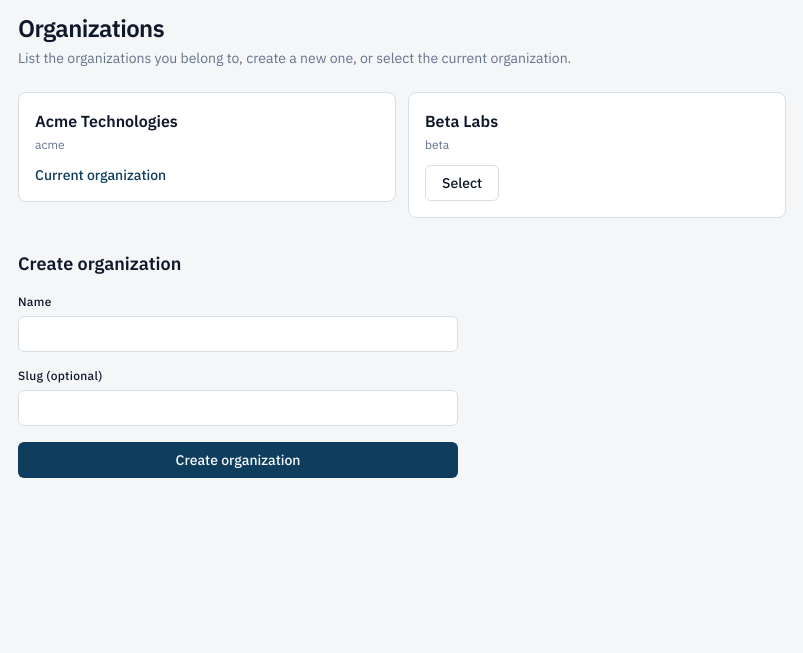
Test: Organizations page › creates an organization, refreshes the list, and makes it current
The image size is (803, 653).
Expected: the element with test id "org-card-org_a" is shown, [18, 92, 396, 202]
Type "Cedar" into the field labelled "Name" at [238, 334], box [18, 316, 458, 352]
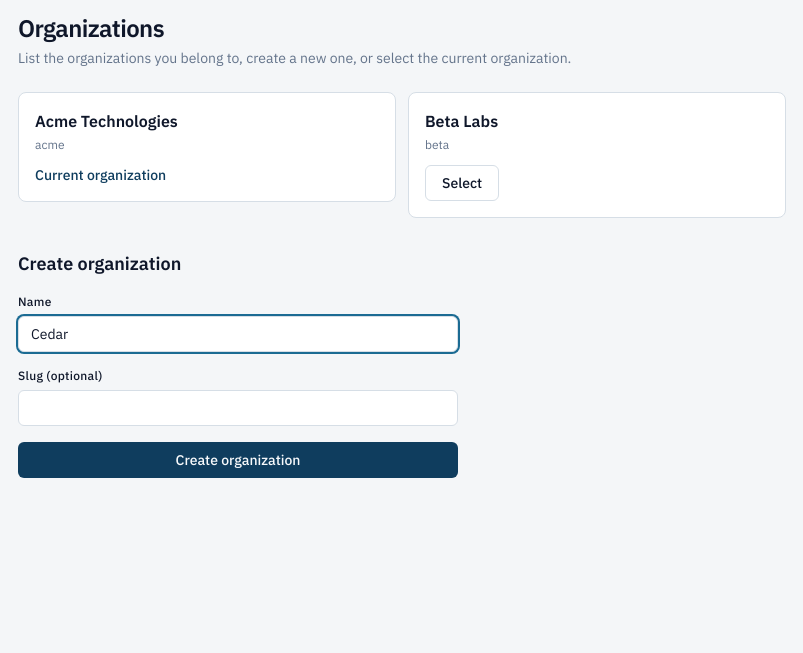
Type "cedar" into the field labelled "Slug (optional)" at [238, 408], box [18, 390, 458, 426]
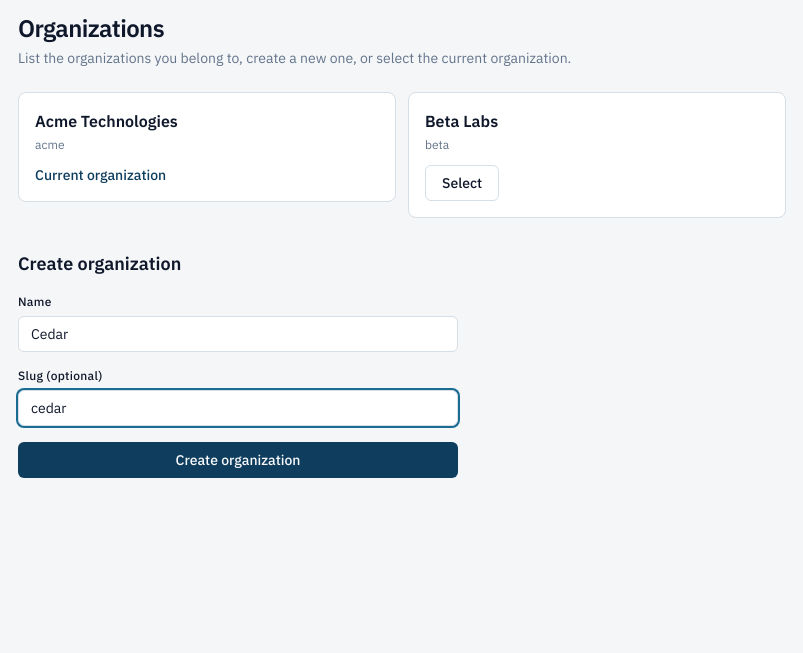
Click the button "Create organization" at [238, 460], box [18, 442, 458, 478]
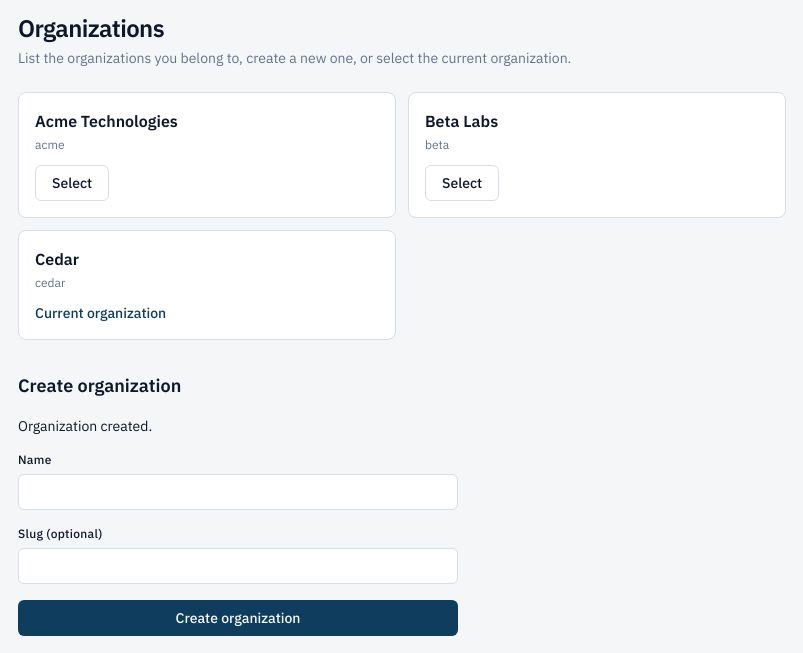
Now the message with test id "create-organization-success" reads "Organization created.", box [18, 417, 152, 435]
